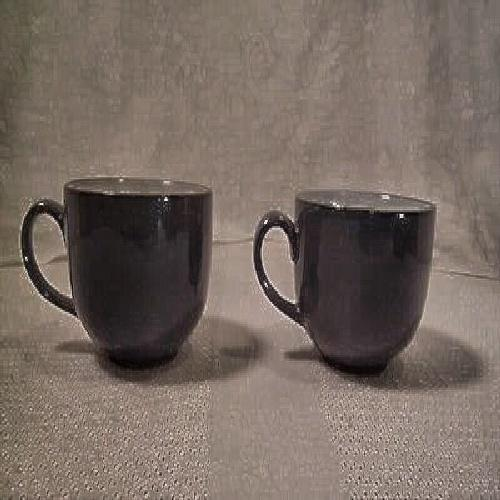mug: (259, 170, 444, 383), (39, 171, 230, 366)
